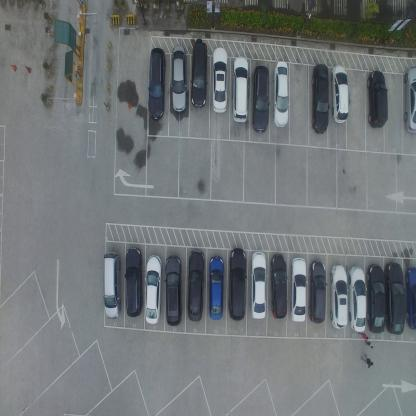car: (384, 261, 405, 336), (366, 263, 387, 334), (227, 247, 246, 323), (147, 48, 166, 122), (163, 254, 182, 327), (251, 64, 270, 134), (102, 250, 121, 320), (366, 68, 388, 128), (310, 61, 328, 134), (186, 250, 204, 322), (143, 254, 161, 326), (124, 247, 142, 319), (289, 257, 308, 325), (230, 55, 249, 122), (329, 262, 348, 328), (270, 253, 288, 321), (190, 38, 207, 110), (348, 266, 366, 334), (249, 250, 266, 321), (330, 63, 349, 124), (308, 260, 326, 324), (273, 58, 289, 128), (211, 45, 227, 114), (170, 45, 186, 112), (207, 255, 223, 322), (403, 65, 416, 136), (404, 267, 416, 330)
